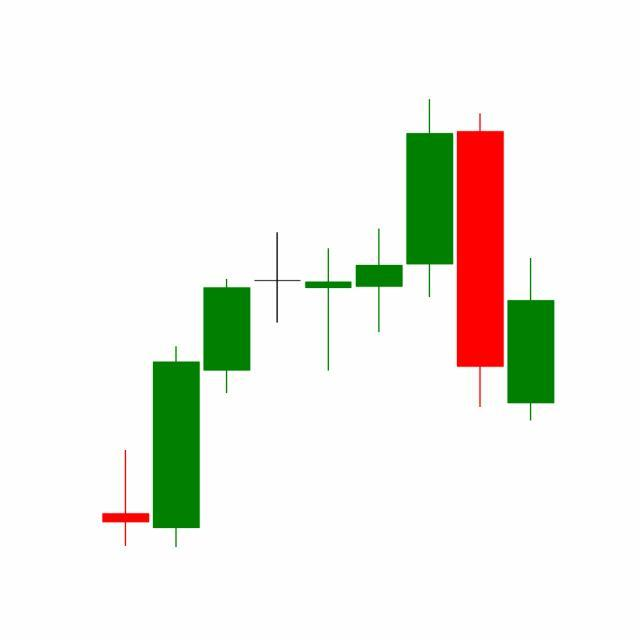Three Line Strike: (303, 100, 507, 413)
